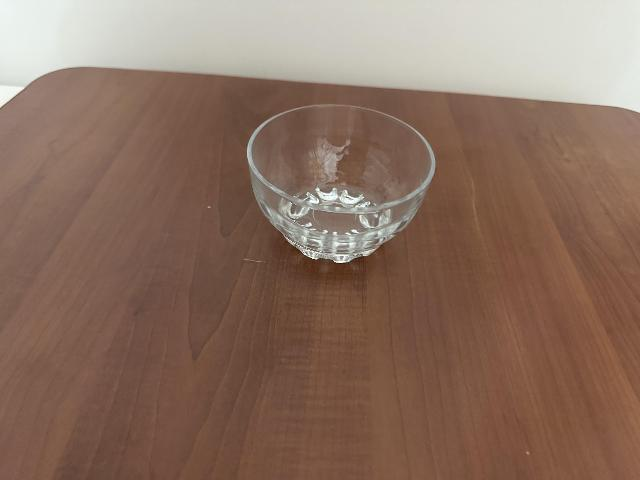Cam: (235, 95, 437, 259)
